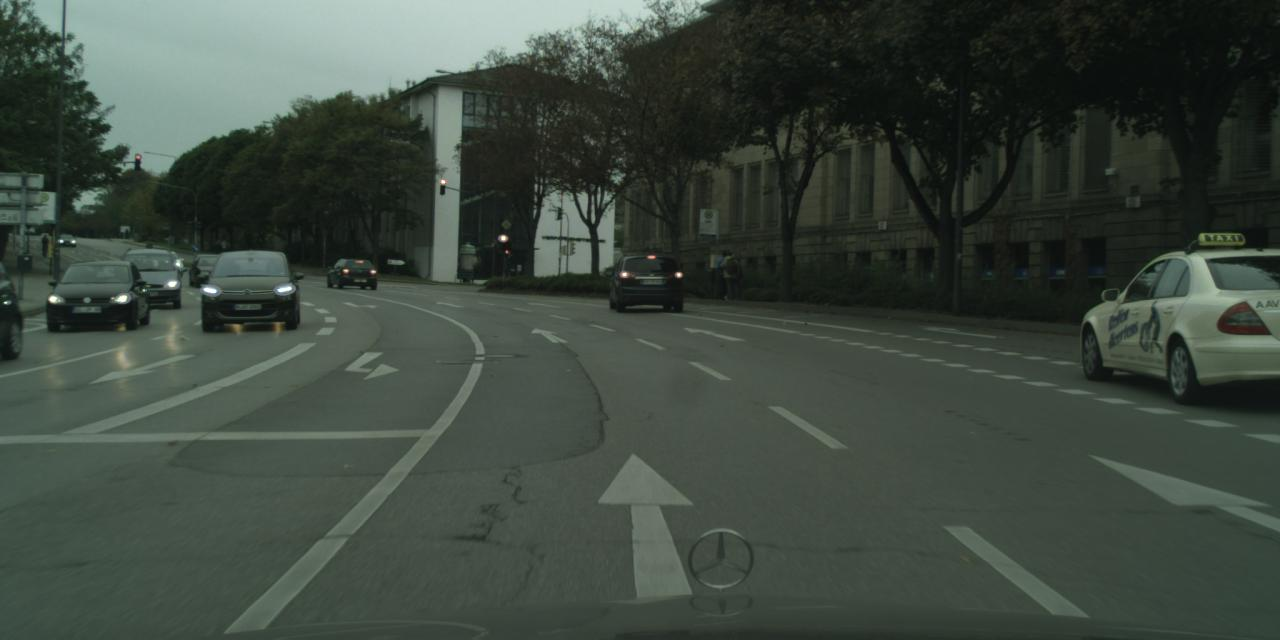ped: (720, 250, 740, 300), (715, 250, 734, 298), (724, 254, 742, 298), (40, 234, 49, 256), (214, 239, 220, 257), (221, 240, 226, 256)
